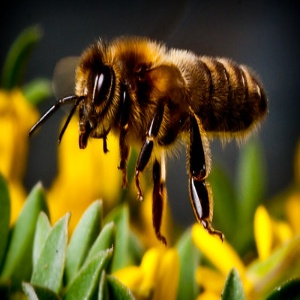bee: (28, 33, 275, 248)
